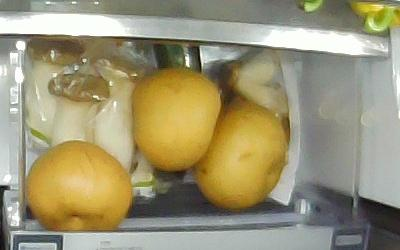pear: (196, 101, 286, 211), (26, 140, 132, 231), (131, 68, 222, 169)
